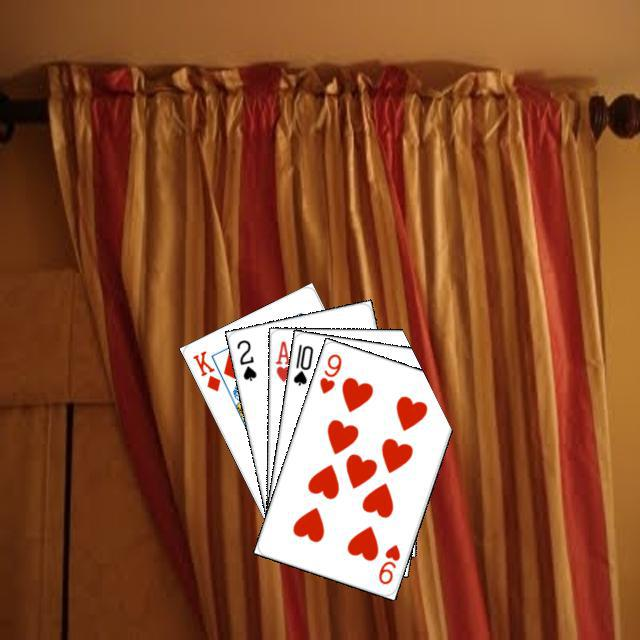10s: (288, 339, 315, 387)
2s: (232, 335, 258, 383)
9h: (314, 349, 343, 396), (373, 539, 402, 586)
Ah: (271, 336, 292, 383)
Kd: (188, 346, 222, 393)
